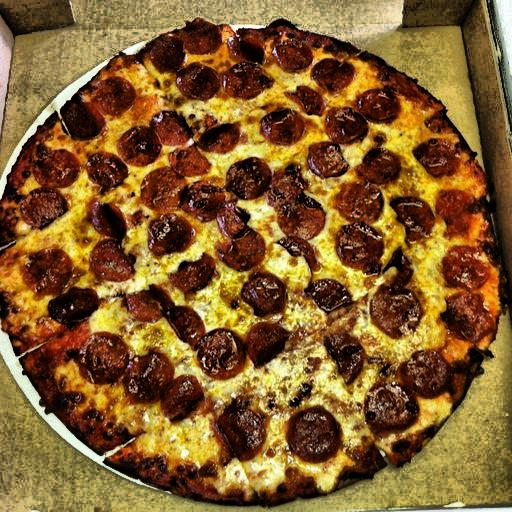pizza: (6, 5, 484, 496)
